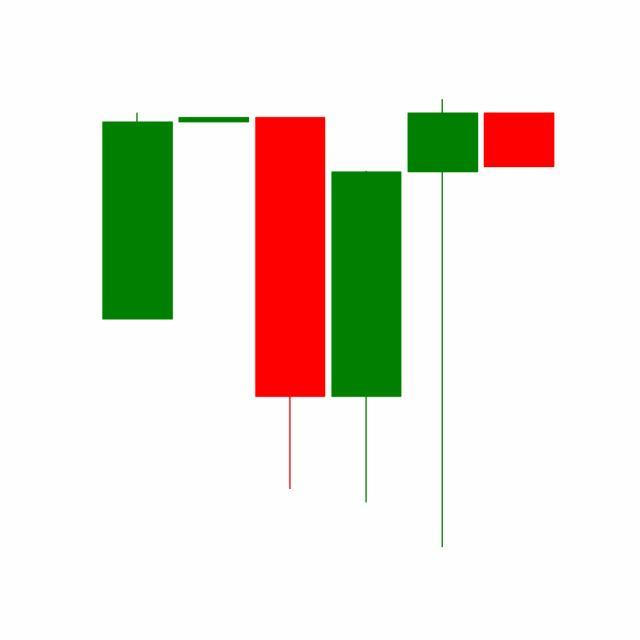Hanging Man: (404, 95, 482, 553)
